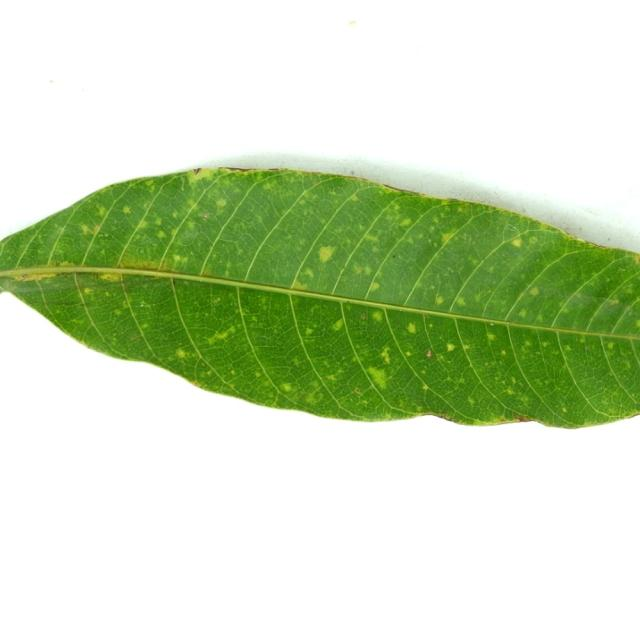Mango: (0, 169, 639, 428)
Powdery_Mildew: (312, 240, 340, 267), (365, 365, 387, 386), (189, 167, 215, 179), (213, 328, 233, 342), (98, 272, 122, 282), (441, 230, 457, 244), (380, 349, 391, 365), (291, 280, 307, 291), (371, 310, 383, 322), (80, 223, 92, 235), (331, 319, 343, 331), (364, 233, 380, 242), (406, 322, 417, 335), (306, 393, 319, 404), (302, 267, 314, 278), (96, 205, 107, 216), (510, 238, 522, 248), (215, 198, 227, 208), (172, 254, 183, 264), (369, 282, 380, 292), (137, 220, 148, 230), (280, 383, 292, 392), (201, 268, 213, 277), (186, 199, 196, 209), (528, 287, 539, 296), (175, 349, 186, 358), (363, 265, 372, 276), (309, 381, 320, 390), (60, 260, 74, 267), (400, 218, 412, 226), (446, 343, 456, 352), (435, 295, 444, 305), (456, 297, 466, 306), (186, 220, 196, 229), (326, 374, 337, 382), (157, 230, 166, 239), (518, 309, 527, 318), (487, 333, 496, 341), (122, 206, 131, 214), (486, 265, 494, 274), (83, 287, 93, 294), (611, 297, 621, 304), (350, 195, 360, 202), (154, 217, 162, 225), (524, 339, 532, 347), (305, 328, 313, 335), (564, 345, 572, 352), (298, 198, 306, 205), (635, 254, 640, 264), (422, 384, 429, 391), (607, 342, 614, 349), (468, 398, 475, 405), (506, 388, 514, 394), (114, 310, 122, 316), (254, 372, 262, 378), (426, 351, 432, 358), (141, 323, 148, 329), (542, 341, 549, 347), (213, 297, 220, 303), (511, 377, 517, 384), (243, 308, 250, 313), (405, 351, 411, 356), (501, 350, 507, 355), (637, 319, 640, 329), (562, 407, 567, 413), (428, 323, 433, 328), (235, 309, 241, 313)
